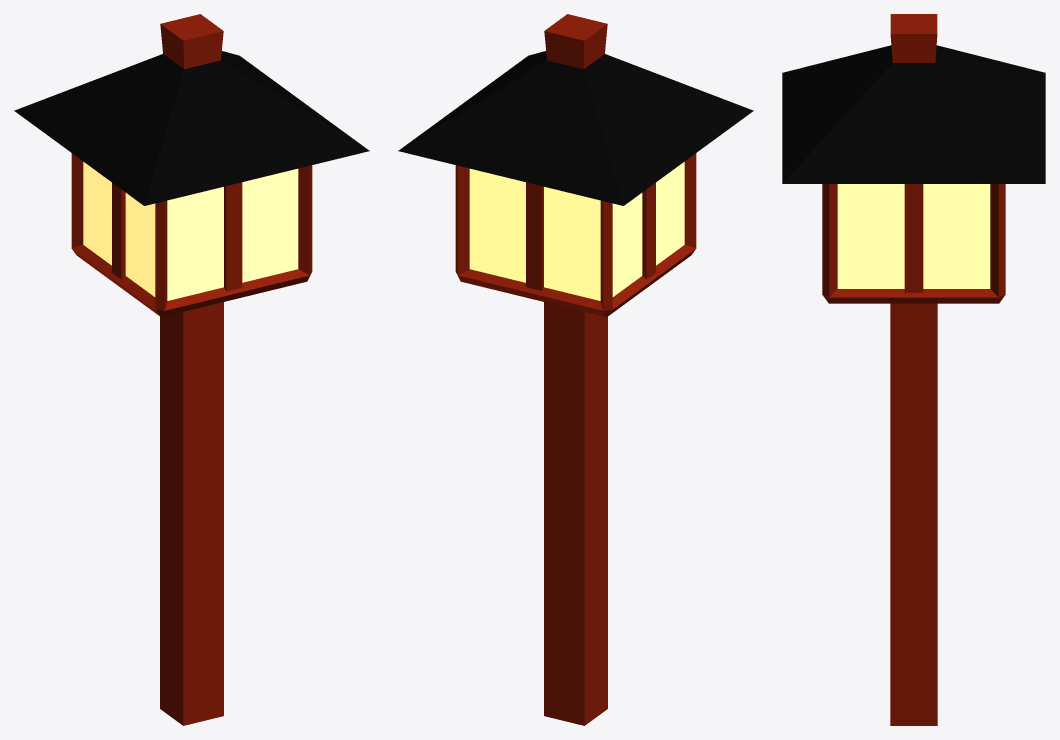
The model's file is Light.fbx.
3 renders of one model, left to right at view 1: azimuth 30°, elevation 25°; view 2: azimuth 150°, elevation 25°; view 3: azimuth 270°, elevation 25°, orthographic.
Parts seen in each view (by area): view 1: Cube; view 2: Cube; view 3: Cube.
Boxes of the visible parts, x1,y1,x2,y2 form: Cube: (14, 14, 369, 725); Cube: (398, 14, 753, 725); Cube: (782, 14, 1045, 725).
Size of the model in its own units: 109 by 317 by 109.
